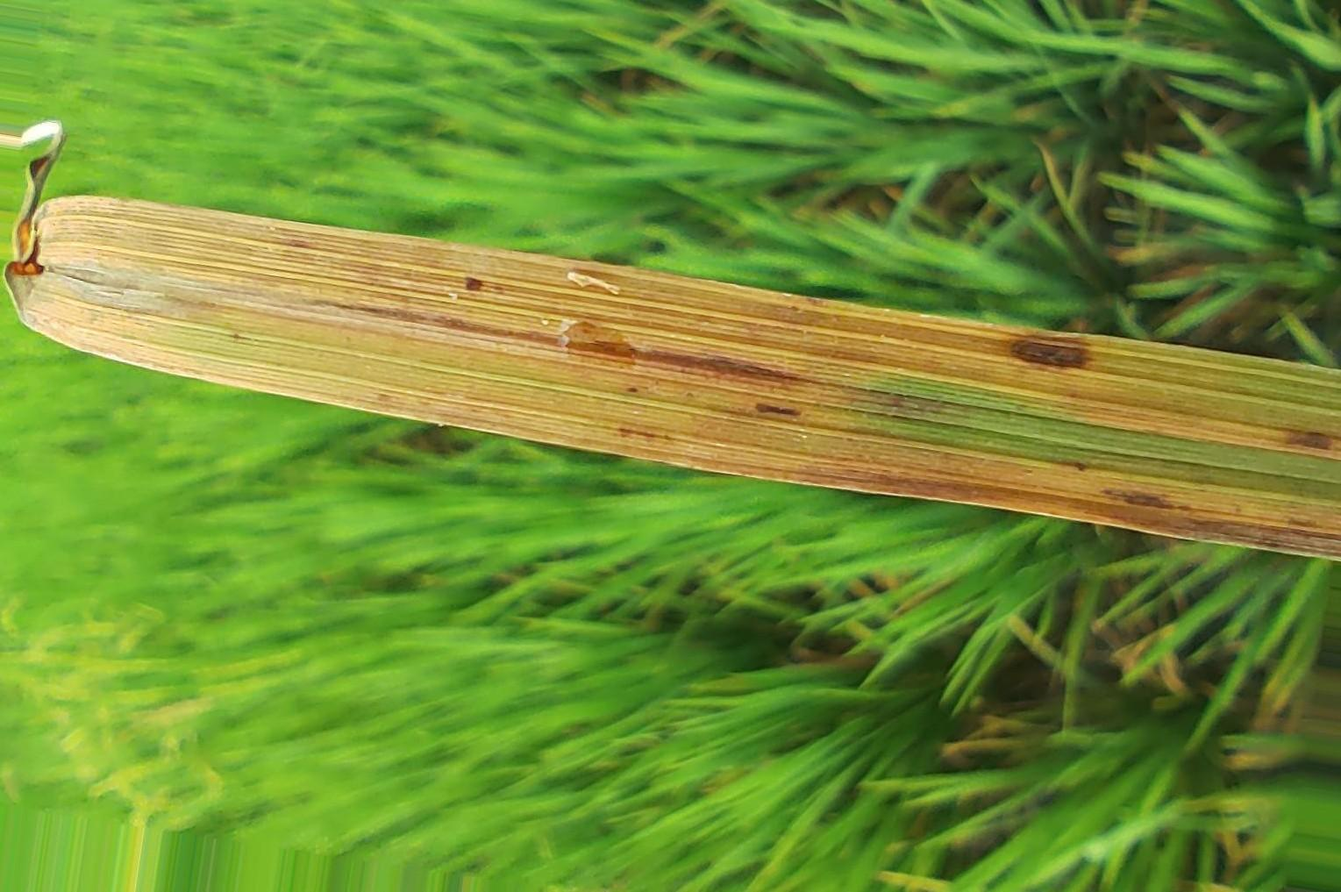LEAF: (5, 196, 1340, 558)
LEAF BLAST: (1012, 339, 1087, 367), (1284, 430, 1334, 451)
